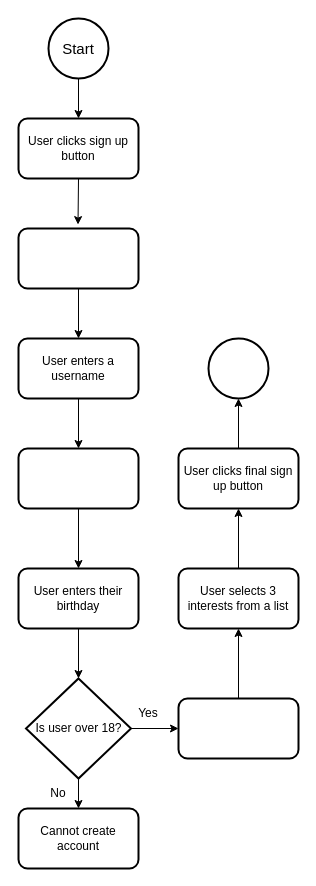
Image size: 316x886. Some labels were removed from this diagram. Each missing label, with the box of its shape:
End: (207, 337, 269, 399)
User enters a password: (17, 447, 139, 509)
User enters an email: (17, 227, 139, 289)
User selects their university from a list: (177, 697, 299, 759)
